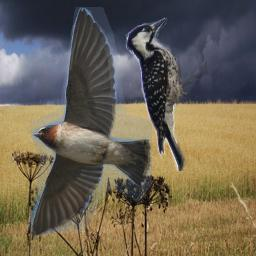Swallow: (30, 7, 152, 238)
Woodpecker: (125, 16, 207, 171)
